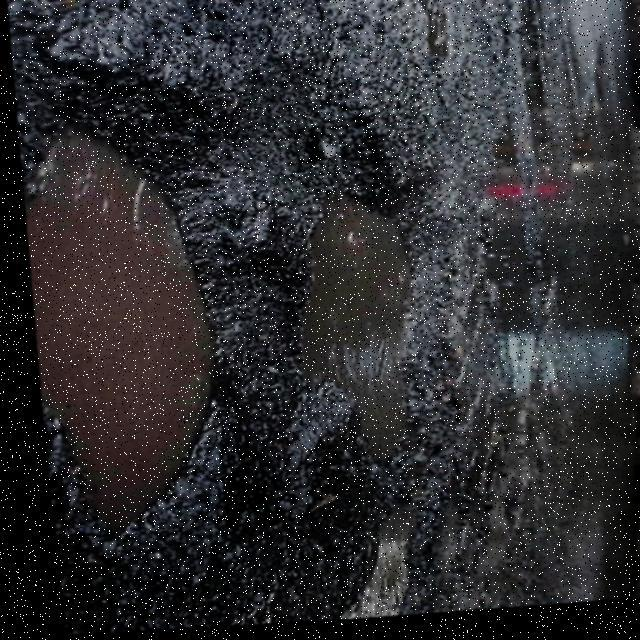pothole: (9, 106, 248, 571), (248, 173, 452, 507)
